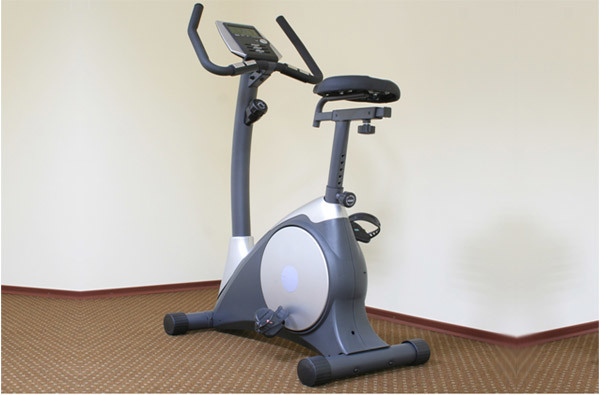gym_bike: (151, 5, 437, 383)
